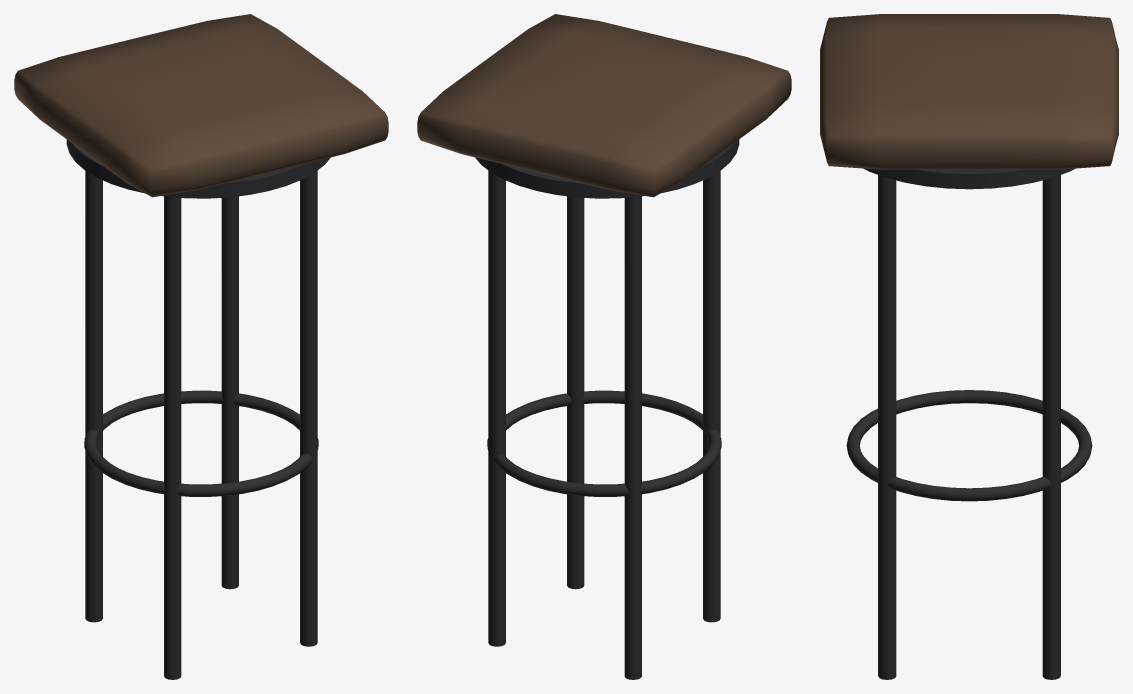
The model's file is stool.glb.
3 renders of one model, left to right at view 1: azimuth 30°, elevation 25°; view 2: azimuth 150°, elevation 25°; view 3: azimuth 270°, elevation 25°, orthographic. The views are drawn at different scales.
Visible parts, largest first — view 1: soft, cyl.003, cyl.004, cyl.002, cyl.001, torus, cyl; view 2: soft, cyl.002, cyl.001, cyl.003, cyl.004, torus, cyl; view 3: soft, cyl.001, cyl.004, torus, cyl.
Part boxes in pixels (x1,y1,x2,y2): soft: (14, 14, 388, 197); cyl.003: (164, 196, 181, 679); cyl.004: (300, 170, 317, 646); cyl.002: (85, 171, 102, 622); cyl.001: (221, 196, 238, 589); torus: (84, 390, 318, 496); cyl: (66, 139, 330, 198); soft: (417, 14, 791, 197); cyl.002: (624, 196, 641, 679); cyl.001: (488, 170, 505, 646); cyl.003: (703, 171, 720, 622); cyl.004: (567, 196, 584, 589); torus: (487, 390, 721, 496); cyl: (475, 139, 739, 198); soft: (820, 14, 1118, 169); cyl.001: (1042, 175, 1060, 679); cyl.004: (878, 175, 896, 679); torus: (846, 390, 1092, 501); cyl: (864, 168, 1074, 189).
Bounding box in the file's own units: 36 × 76.55 × 36.
